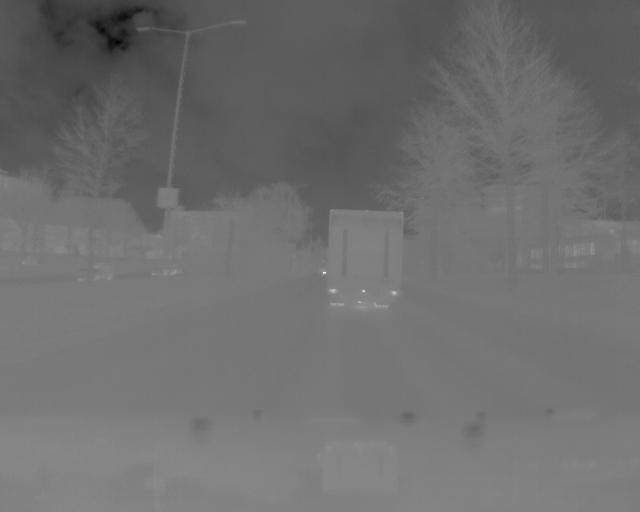car: (324, 204, 407, 314)
